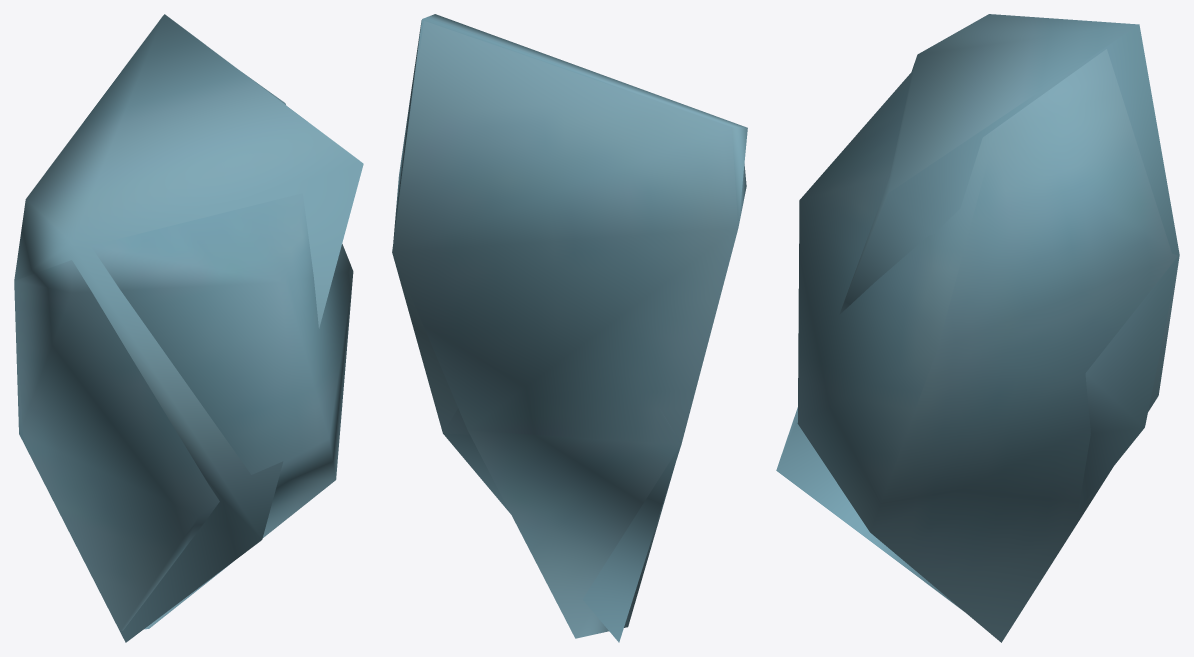
Rendered from objects_un_a_w23crystal02_01.gltf.
The picture shows the model from 3 angles, left to right: view 1: azimuth 30°, elevation 25°; view 2: azimuth 150°, elevation 25°; view 3: azimuth 270°, elevation 25°; orthographic projection. The views are drawn at different scales.
Visible parts, largest first — view 1: um_objects_un_a_w23crystal02_01_model_lod0Shape:crystal02_ou, um_objects_un_a_w23crystal02_01_model_lod1Shape:crystal02_ou; view 2: um_objects_un_a_w23crystal02_01_model_lod0Shape:crystal02_ou, um_objects_un_a_w23crystal02_01_model_lod1Shape:crystal02_ou; view 3: um_objects_un_a_w23crystal02_01_model_lod0Shape:crystal02_ou, um_objects_un_a_w23crystal02_01_model_lod1Shape:crystal02_ou.
Boxes of the visible parts, box(x1,y1,x2,y2) form: um_objects_un_a_w23crystal02_01_model_lod0Shape:crystal02_ou: box(14, 16, 353, 630); um_objects_un_a_w23crystal02_01_model_lod1Shape:crystal02_ou: box(14, 14, 363, 642); um_objects_un_a_w23crystal02_01_model_lod0Shape:crystal02_ou: box(392, 20, 746, 638); um_objects_un_a_w23crystal02_01_model_lod1Shape:crystal02_ou: box(392, 14, 747, 642); um_objects_un_a_w23crystal02_01_model_lod0Shape:crystal02_ou: box(797, 49, 1179, 642); um_objects_un_a_w23crystal02_01_model_lod1Shape:crystal02_ou: box(776, 14, 1179, 610).
Bounding box in the file's own units: 0.2995 × 0.5055 × 0.2789.
2 materials, 1 textured.
